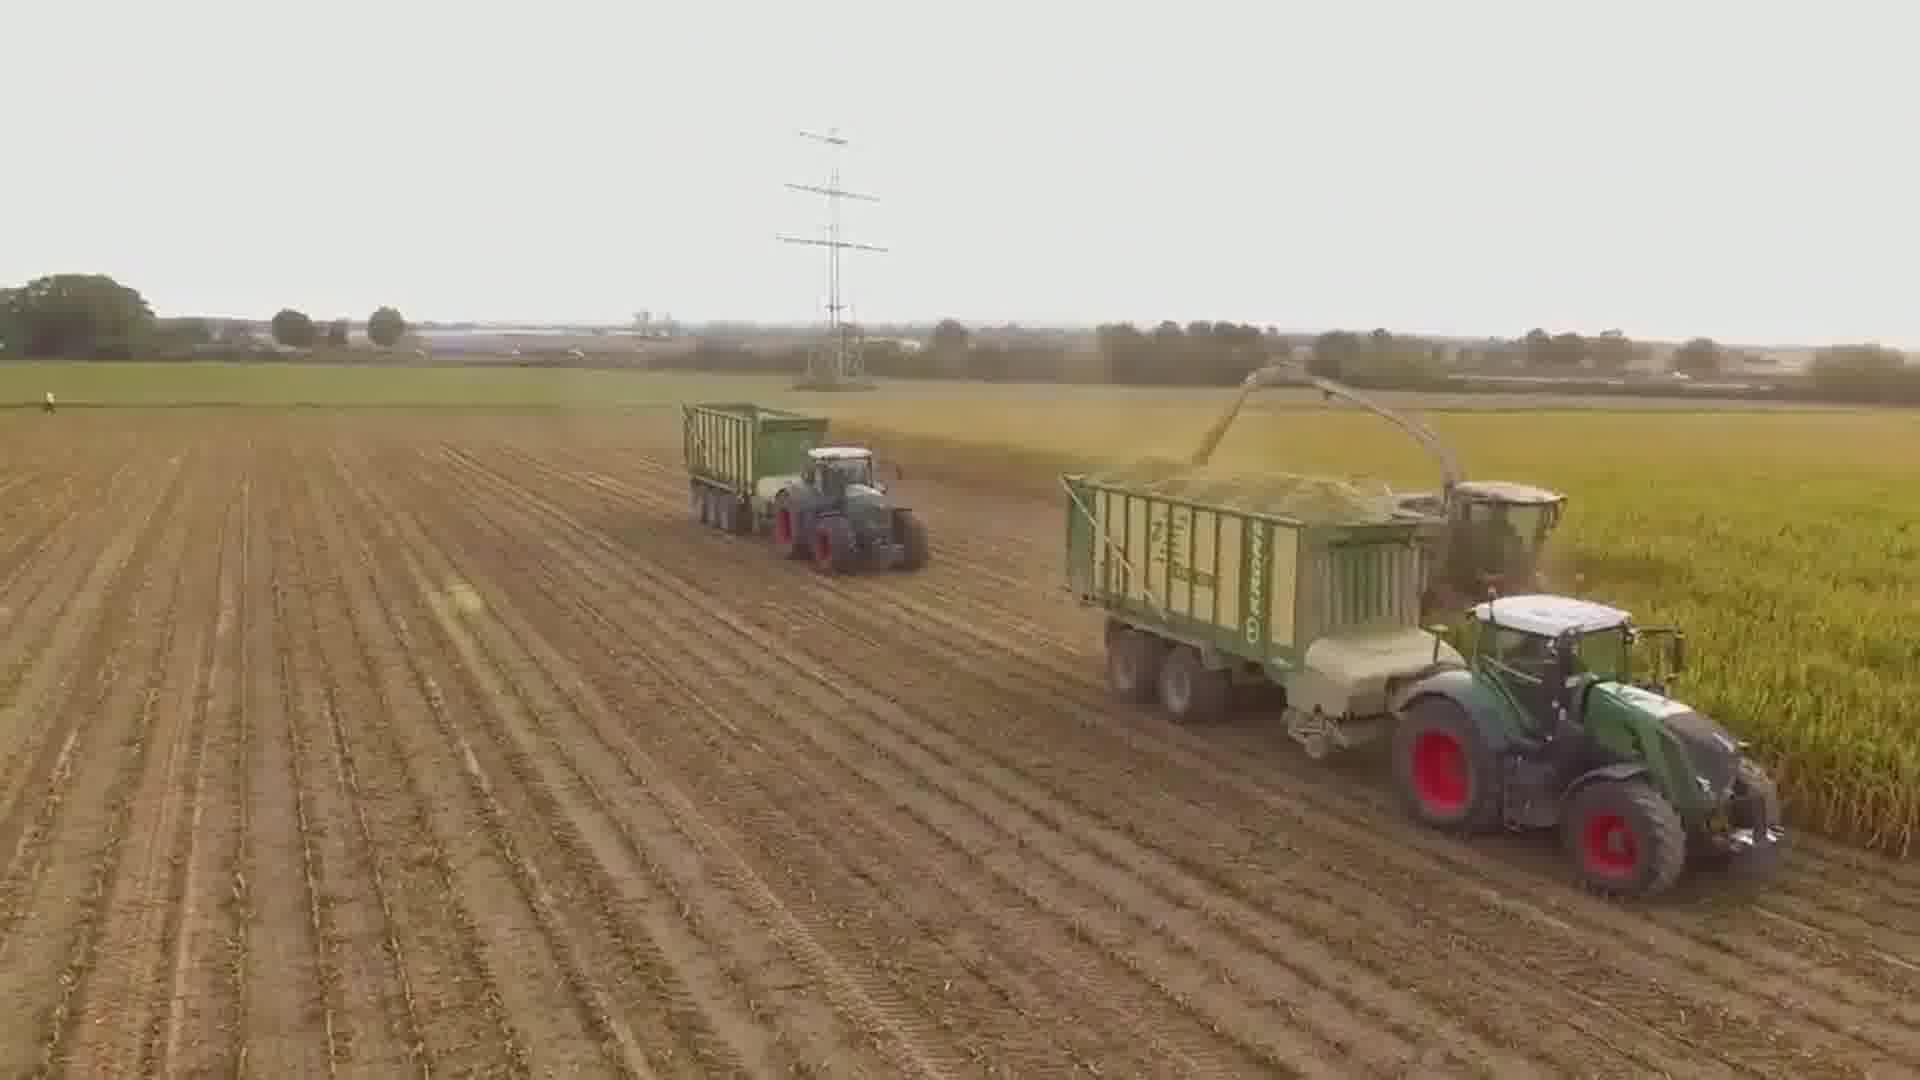combine harvester: (1246, 350, 1570, 610)
tractor: (1389, 587, 1793, 901), (763, 441, 936, 583)
trailer: (1049, 454, 1469, 773), (677, 389, 830, 544)
